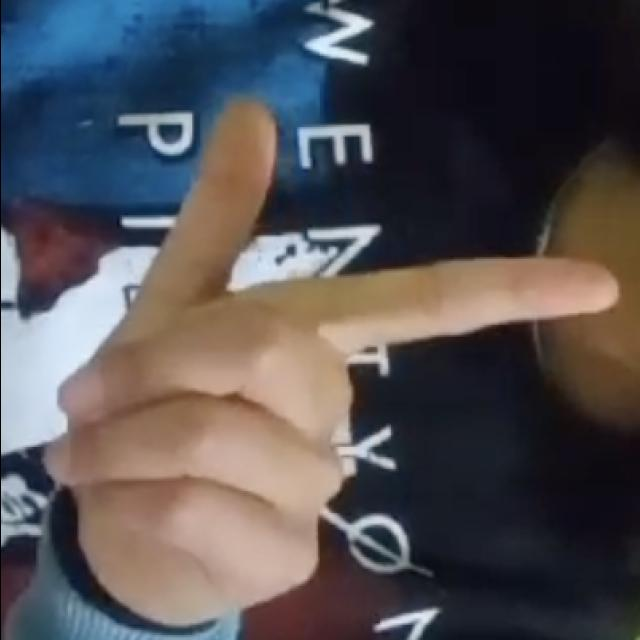LL: (40, 96, 631, 624)
